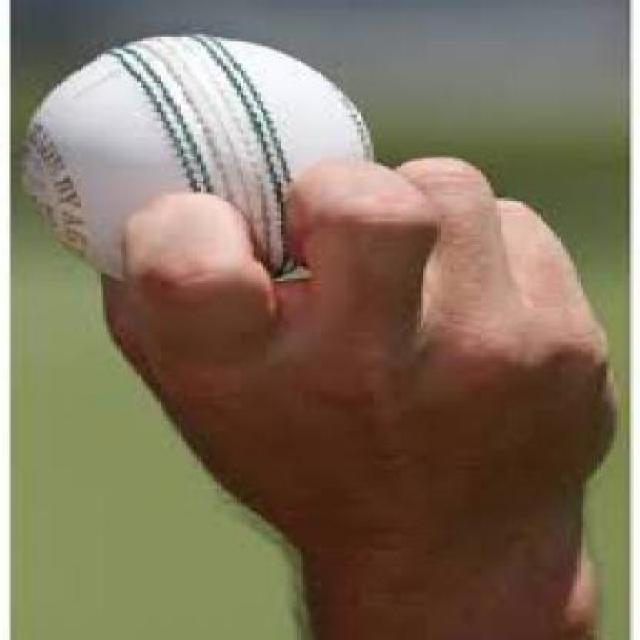ball: (14, 23, 378, 270)
